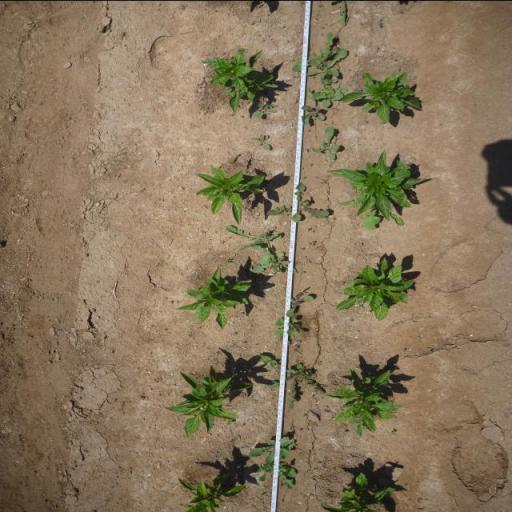plant: (324, 149, 428, 219), (163, 365, 254, 438), (199, 45, 283, 115), (173, 263, 258, 330), (327, 363, 404, 433), (335, 256, 416, 321), (340, 68, 426, 122), (194, 166, 266, 224), (318, 471, 396, 512), (176, 473, 248, 512)
weed: (257, 352, 325, 410), (264, 181, 332, 222), (292, 29, 351, 70), (225, 225, 284, 264), (248, 435, 296, 463), (308, 77, 348, 109), (251, 250, 299, 276), (251, 462, 298, 488), (311, 126, 340, 160), (286, 292, 316, 317), (301, 98, 326, 125), (307, 60, 342, 78), (274, 316, 304, 336), (252, 102, 277, 118), (250, 134, 272, 150), (339, 0, 350, 27), (294, 362, 313, 375), (357, 296, 363, 310), (328, 76, 338, 83), (376, 19, 383, 27), (308, 240, 317, 246), (390, 428, 397, 434), (302, 412, 309, 418), (224, 258, 232, 263), (315, 360, 322, 365), (225, 421, 233, 425), (300, 246, 306, 250), (398, 9, 404, 13), (301, 270, 306, 274), (307, 227, 312, 231), (306, 260, 312, 263), (308, 163, 314, 166), (380, 121, 385, 124), (344, 430, 348, 433), (402, 348, 406, 351), (301, 176, 307, 178), (239, 312, 244, 314), (429, 350, 433, 352)
